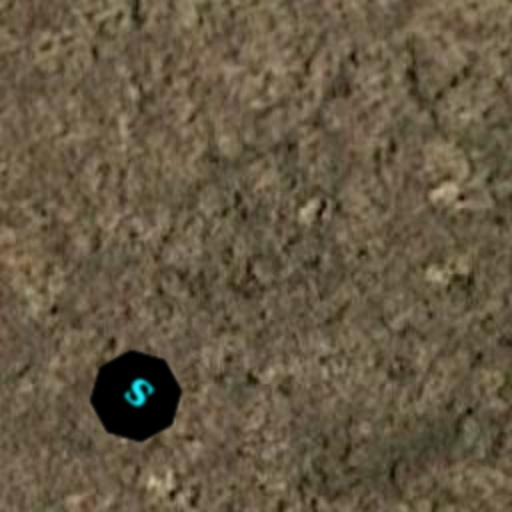octagon: (68, 328, 204, 464)
